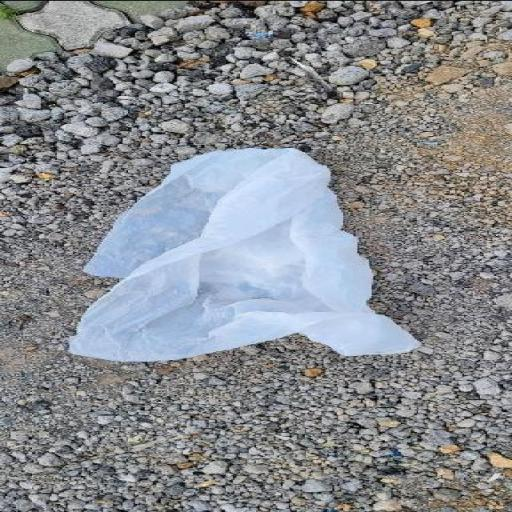plastic-bag: (64, 145, 424, 362)
